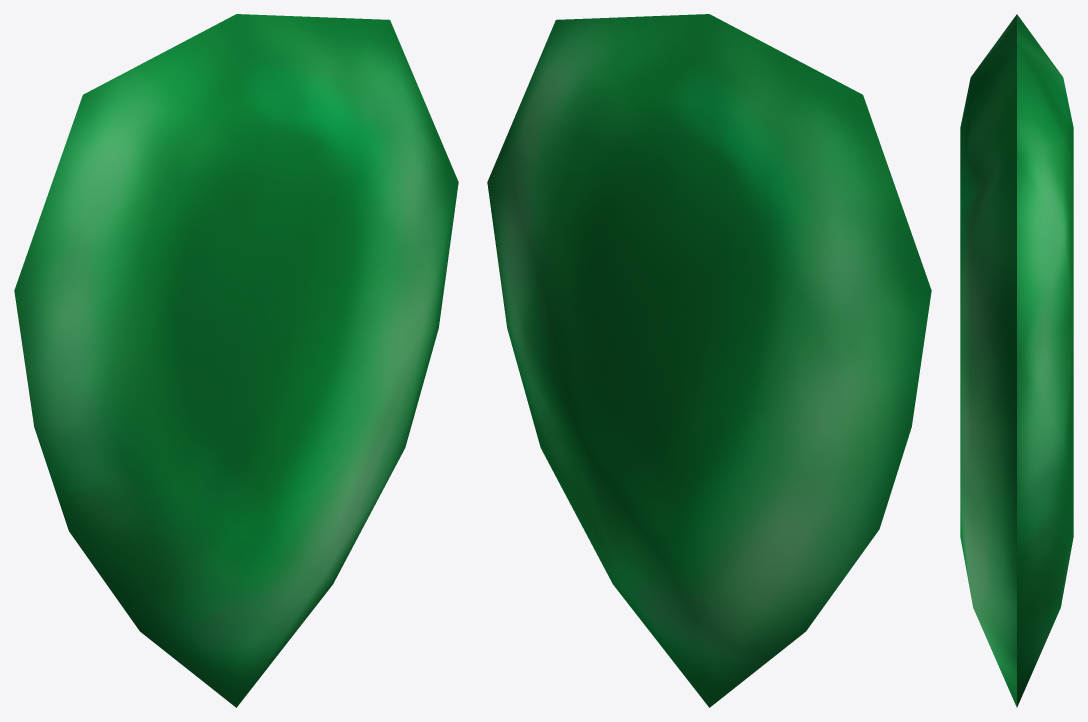
The model's file is Earth Crytsal.fbx.
3 views of the same model, side by side, from view 1: azimuth 30°, elevation 25°; view 2: azimuth 150°, elevation 25°; view 3: azimuth 270°, elevation 25° (orthographic). The views are drawn at different scales.
Parts seen in each view (by area): view 1: Oil_Tank; view 2: Oil_Tank; view 3: Oil_Tank.
Part boxes in pixels (<box>): Oil_Tank: <box>14,14,458,707</box>; Oil_Tank: <box>487,14,931,707</box>; Oil_Tank: <box>960,14,1073,707</box>.
Bounding box in the file's own units: 160 × 239 × 36.98.
